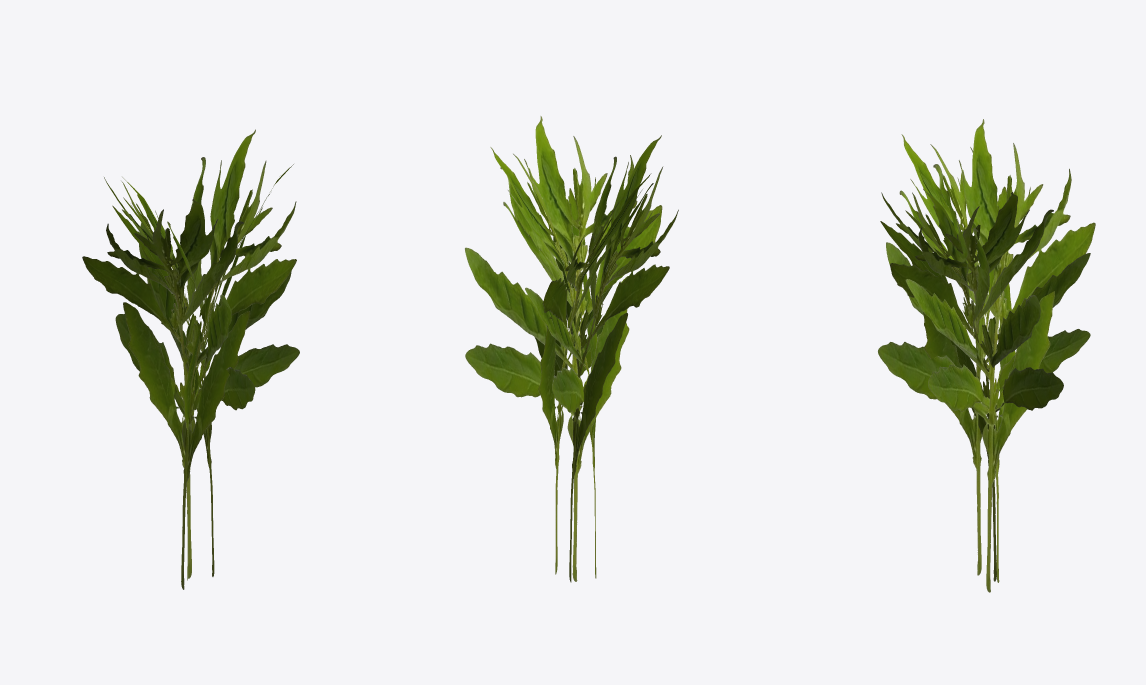
Rendered from epazote.fbx.
3 views of the same model, side by side, from view 1: azimuth 30°, elevation 25°; view 2: azimuth 150°, elevation 25°; view 3: azimuth 270°, elevation 25° (orthographic).
Parts seen in each view (by area): view 1: epazote; view 2: epazote; view 3: epazote.
Part boxes in pixels (<box>): epazote: <box>82,129,299,589</box>; epazote: <box>465,116,678,582</box>; epazote: <box>878,119,1095,592</box>.
Size of the model in its own units: 14.82 by 23.6 by 13.3.
